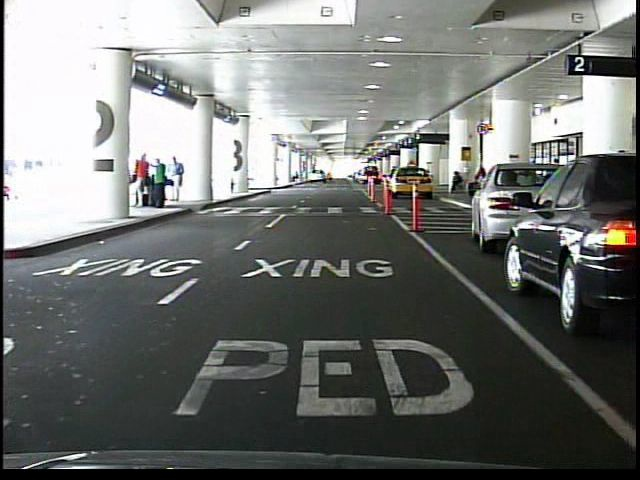person: (152, 156, 168, 209), (136, 151, 150, 207), (171, 156, 186, 203), (476, 163, 489, 195), (448, 171, 463, 195)
